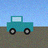vehicle: (7, 16, 33, 34)
